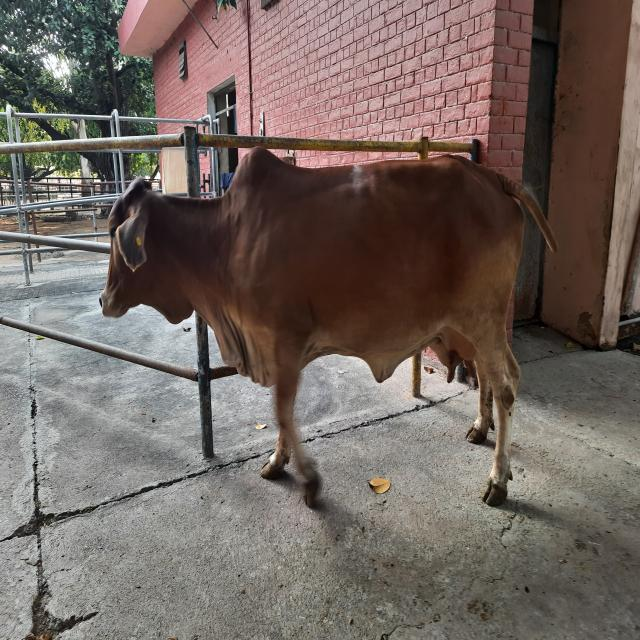cow: (99, 145, 558, 509)
hump: (224, 138, 289, 196)
